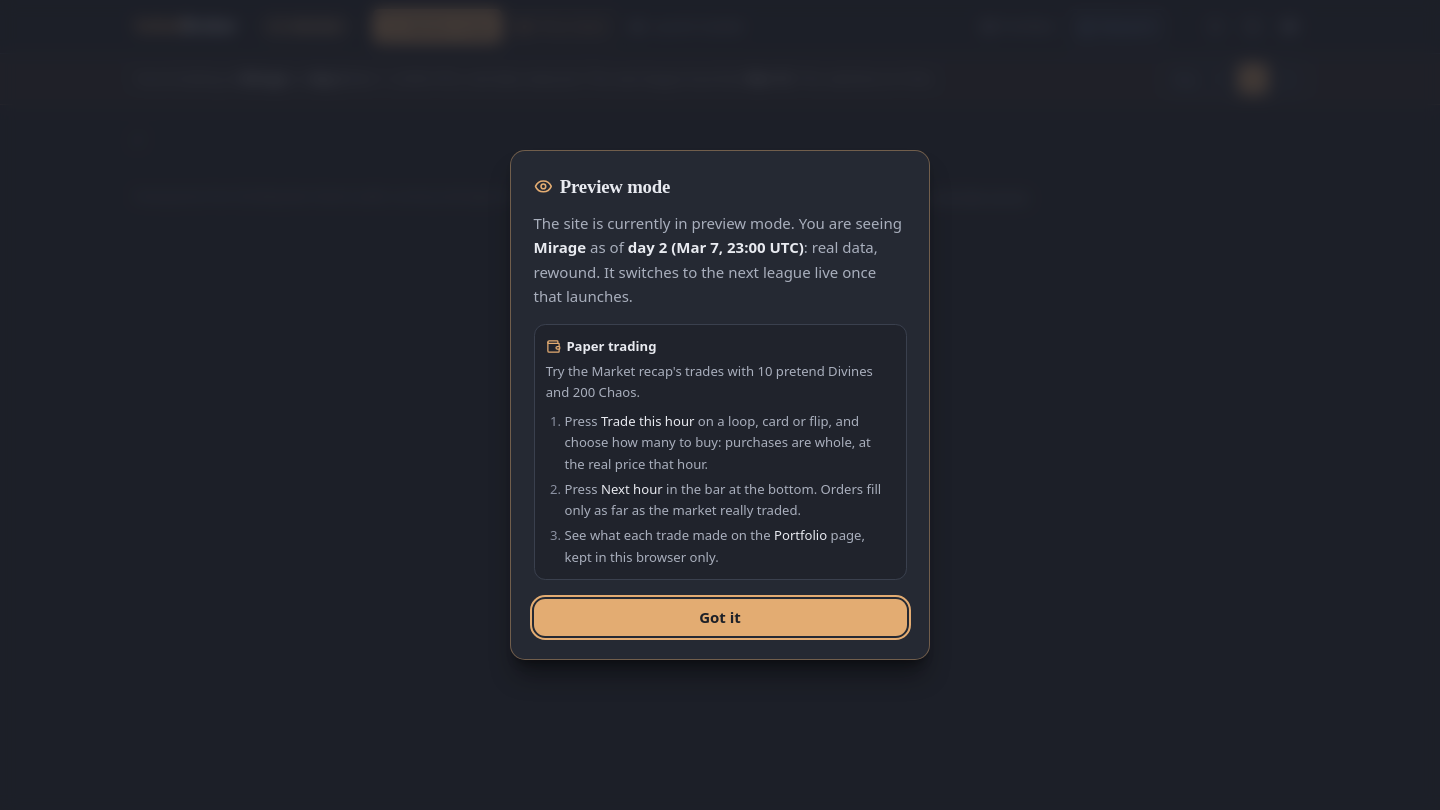
Test: preview welcome › opens over the page on the first visit, naming the league and the time shown
Check: the text "Paper trading" is shown, box [546,337,656,355]
Check: the dialog "Preview mode" shows "purchases are whole, at the real price that hour", box [564,412,871,473]
Click the button "Got it" at [720, 618], box [534,599,906,636]
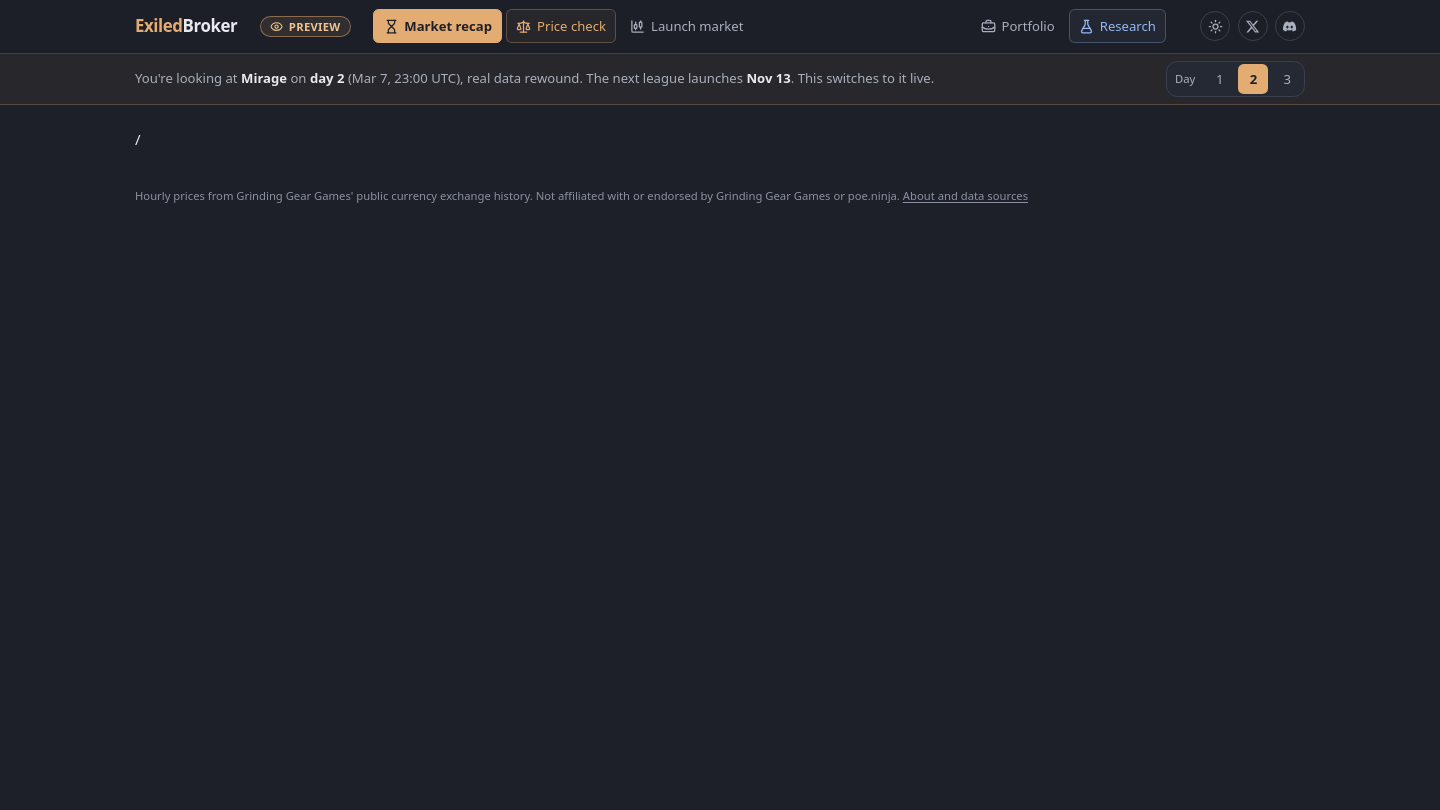
Check: the dialog is gone
